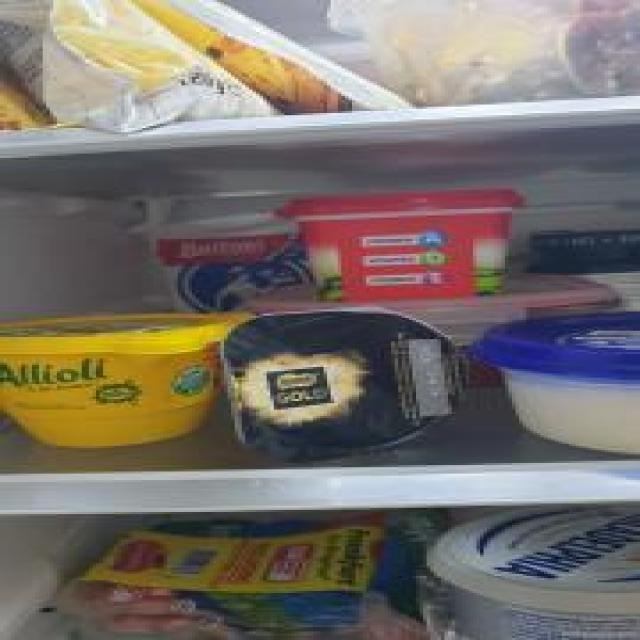butter: (283, 186, 521, 298)
grated_cheese: (3, 4, 292, 122)
sausage: (75, 513, 412, 639)
